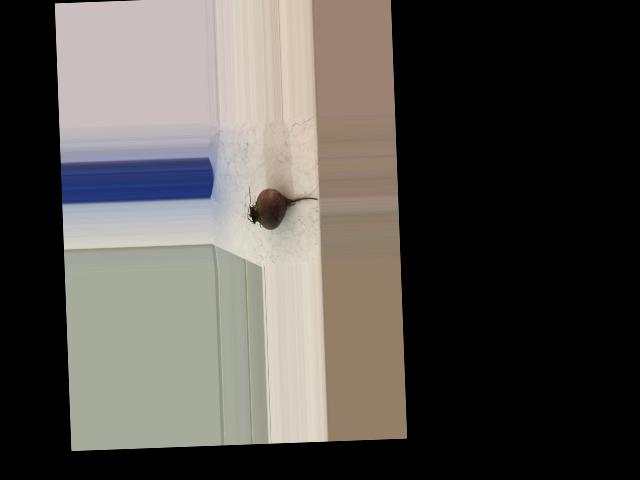beet: (246, 183, 319, 230)
